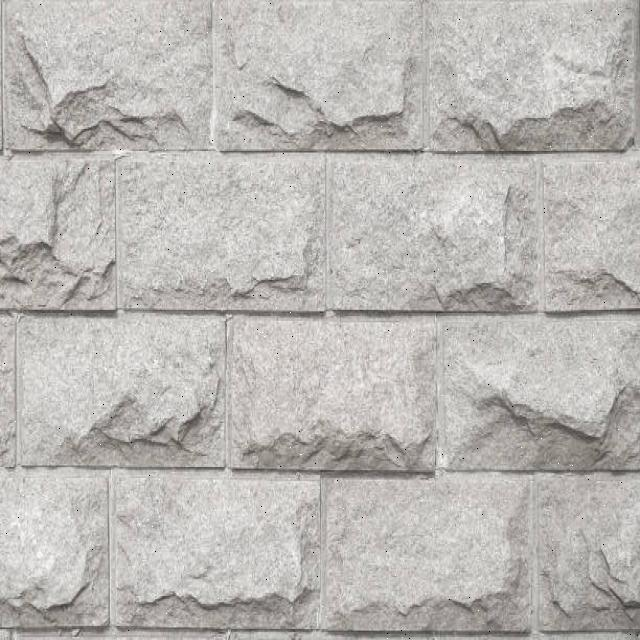Metamorphic: (2, 5, 640, 638)
